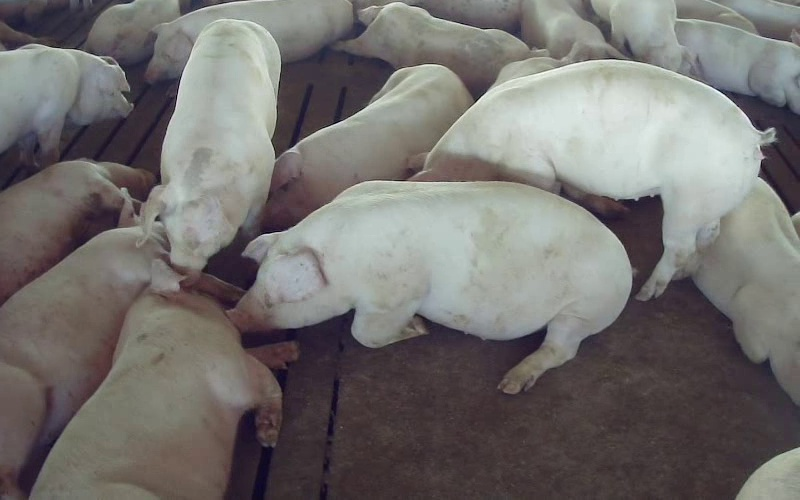pig: (229, 182, 631, 393), (32, 263, 296, 499), (0, 192, 162, 496), (139, 19, 280, 269), (262, 64, 471, 229), (692, 179, 799, 404), (0, 160, 155, 304), (333, 2, 548, 97), (0, 44, 132, 166), (675, 19, 799, 114), (591, 0, 693, 74), (521, 0, 625, 62)
